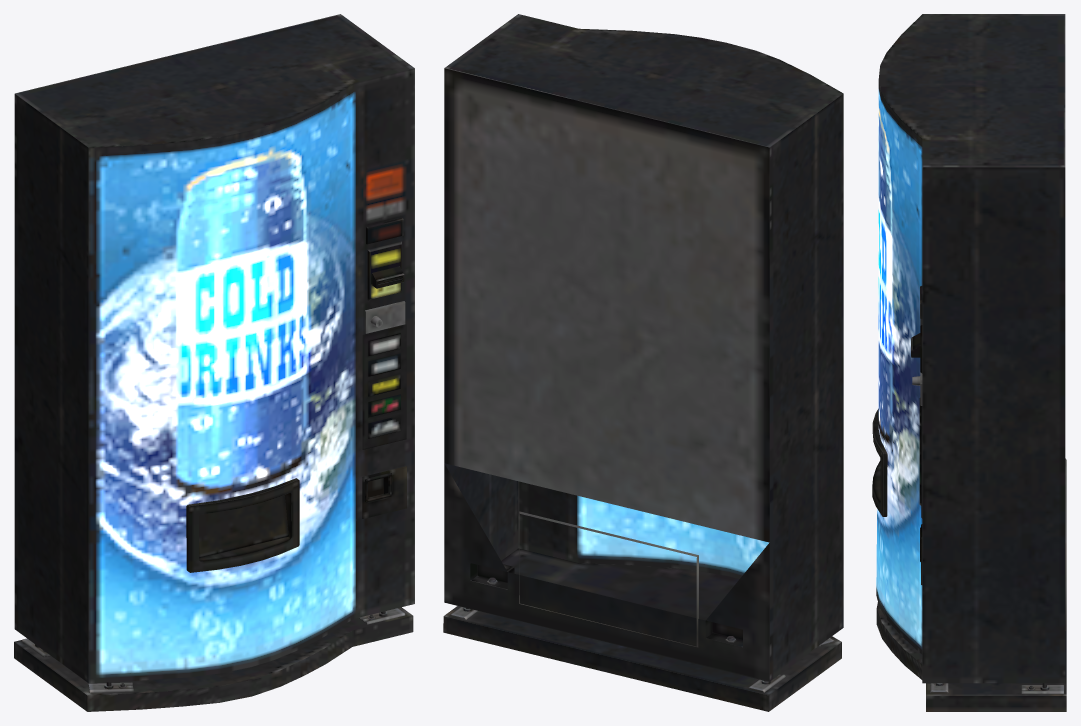
Rendered from sm24_002_vendingmachine02a.fbx.
3 renders of one model, left to right at view 1: azimuth 30°, elevation 25°; view 2: azimuth 150°, elevation 25°; view 3: azimuth 270°, elevation 25°, orthographic. The views are drawn at different scales.
Parts seen in each view (by area): view 1: LOD_1_Group_8_Sub_1__sm24_002_VendingMachine02A_B_Mat, LOD_1_Group_1_Sub_1__sm24_002_VendingMachine02A_A_Mat, LOD_1_Group_2_Sub_1__sm24_002_VendingMachine02A_A_Mat; view 2: LOD_1_Group_1_Sub_1__sm24_002_VendingMachine02A_A_Mat, LOD_1_Group_8_Sub_1__sm24_002_VendingMachine02A_B_Mat; view 3: LOD_1_Group_1_Sub_1__sm24_002_VendingMachine02A_A_Mat, LOD_1_Group_8_Sub_1__sm24_002_VendingMachine02A_B_Mat.
Part boxes in pixels (<box>): LOD_1_Group_8_Sub_1__sm24_002_VendingMachine02A_B_Mat: <box>98,93,354,672</box>; LOD_1_Group_1_Sub_1__sm24_002_VendingMachine02A_A_Mat: <box>14,14,414,711</box>; LOD_1_Group_2_Sub_1__sm24_002_VendingMachine02A_A_Mat: <box>199,495,288,558</box>; LOD_1_Group_1_Sub_1__sm24_002_VendingMachine02A_A_Mat: <box>443,14,843,711</box>; LOD_1_Group_8_Sub_1__sm24_002_VendingMachine02A_B_Mat: <box>579,496,769,571</box>; LOD_1_Group_1_Sub_1__sm24_002_VendingMachine02A_A_Mat: <box>872,14,1066,711</box>; LOD_1_Group_8_Sub_1__sm24_002_VendingMachine02A_B_Mat: <box>876,90,922,644</box>.
Size of the model in its own units: 1.21 by 2.01 by 0.6508.
